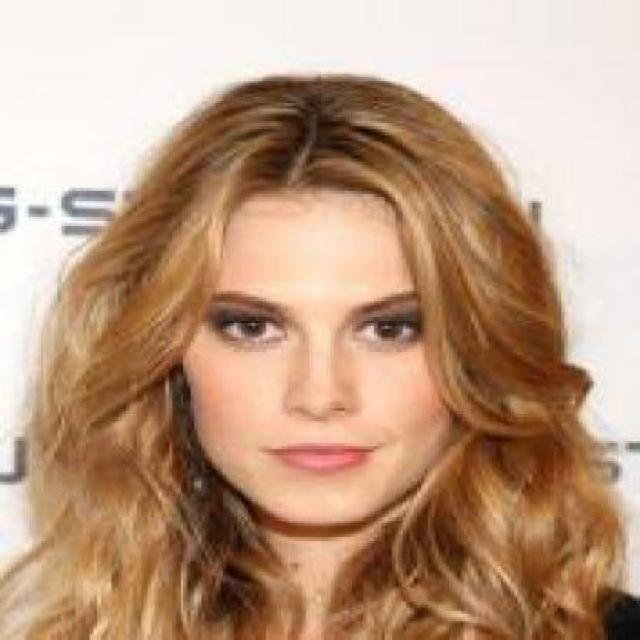closed-mouth: (264, 439, 376, 472)
